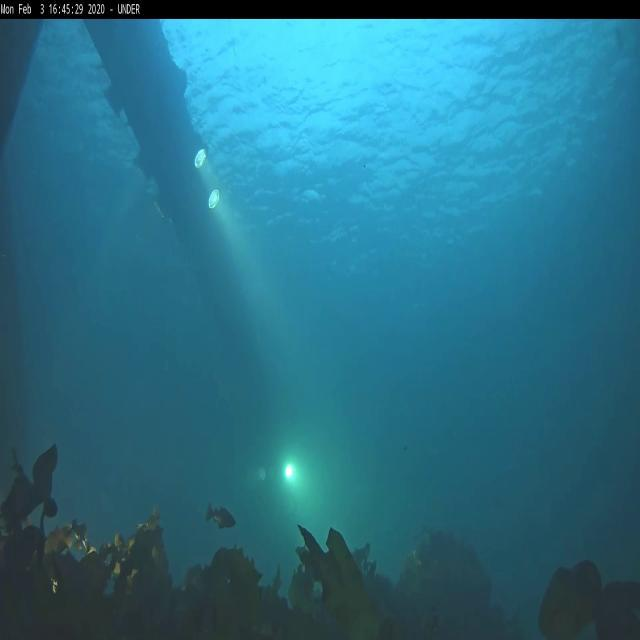fish: (206, 501, 236, 530)
